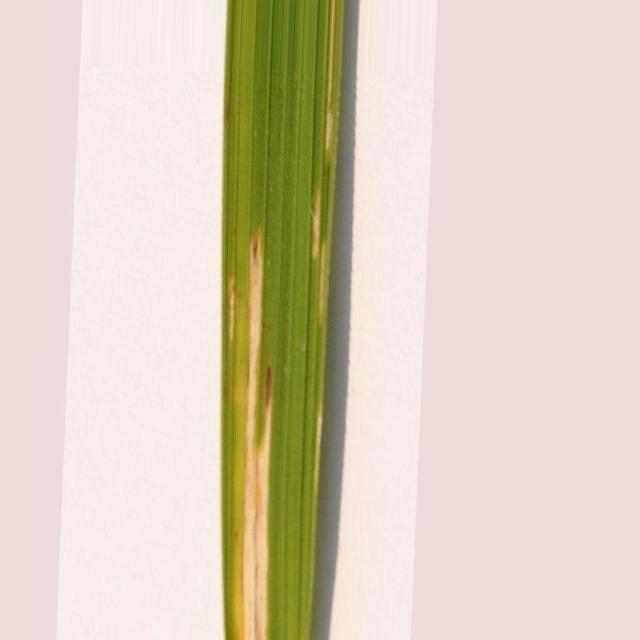Bacterial_Leaf_Blight: (233, 222, 269, 640), (312, 195, 322, 258)
